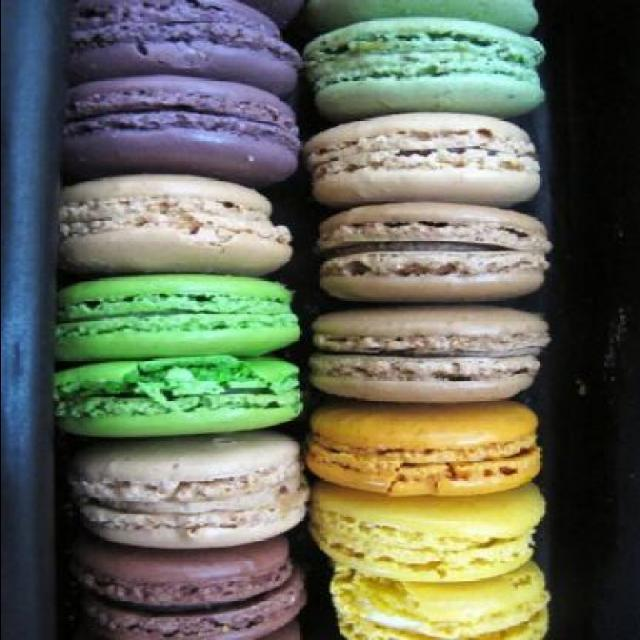Macaron: (60, 1, 552, 639)
